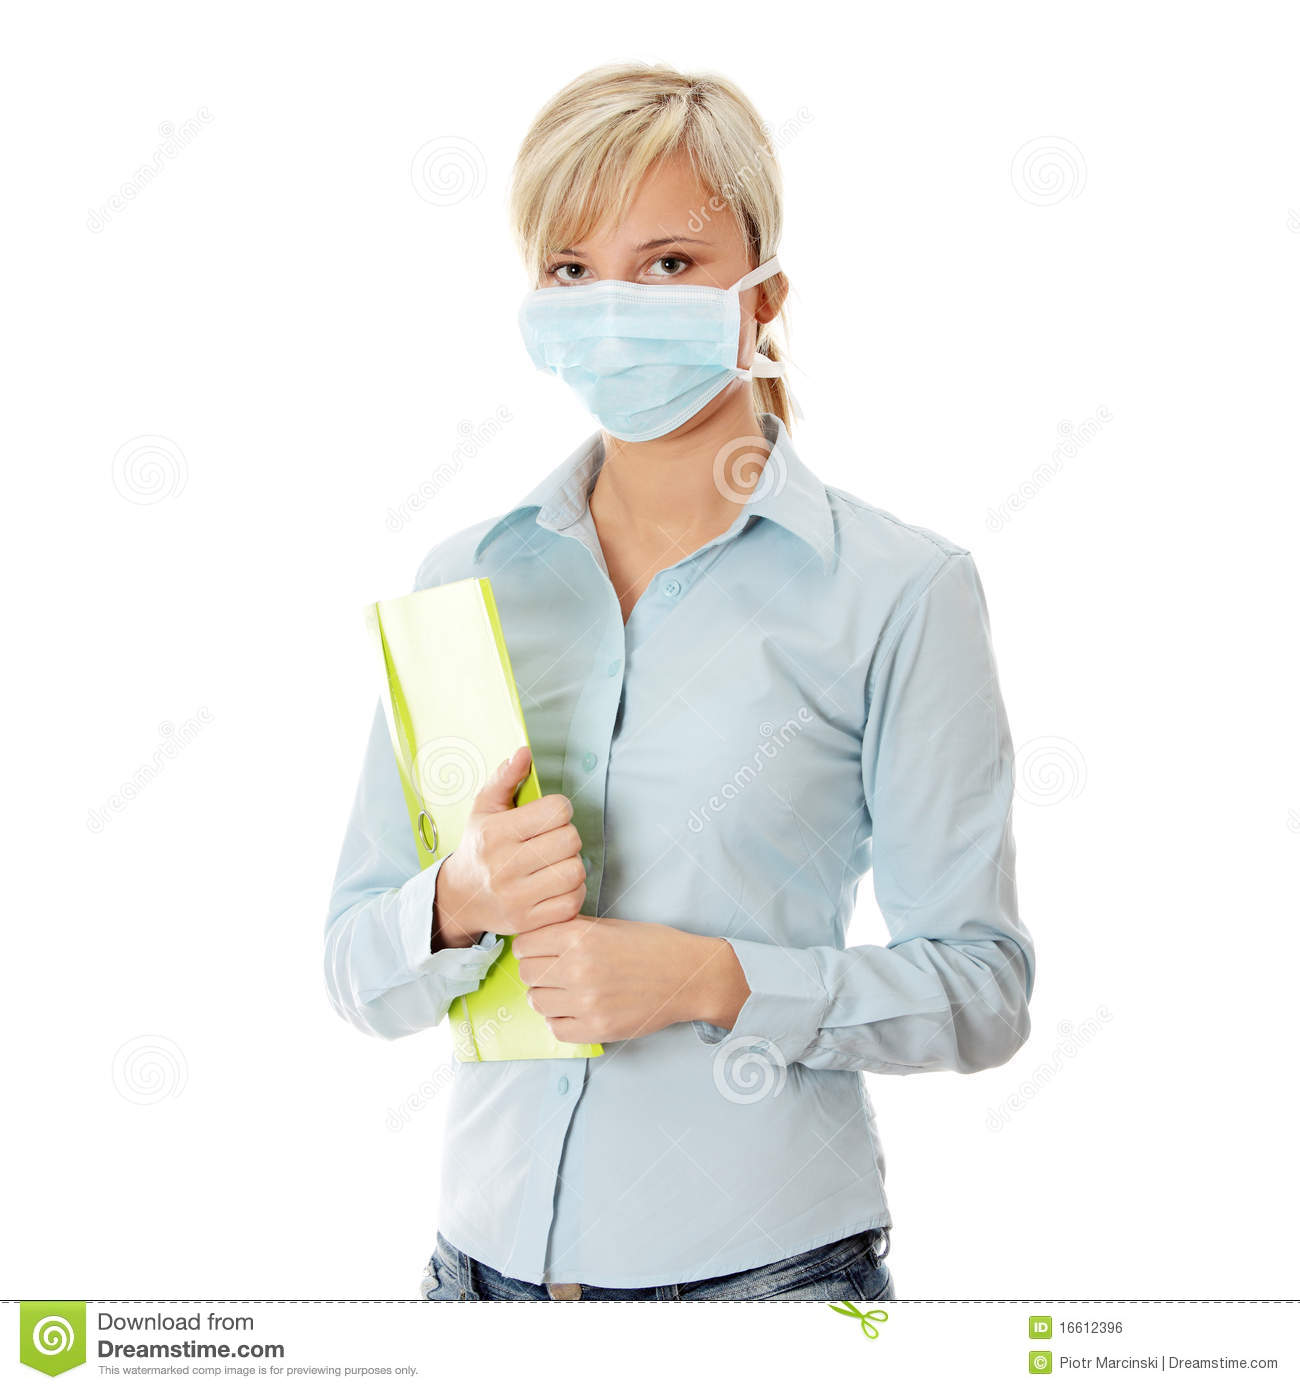mask: (520, 283, 739, 442)
